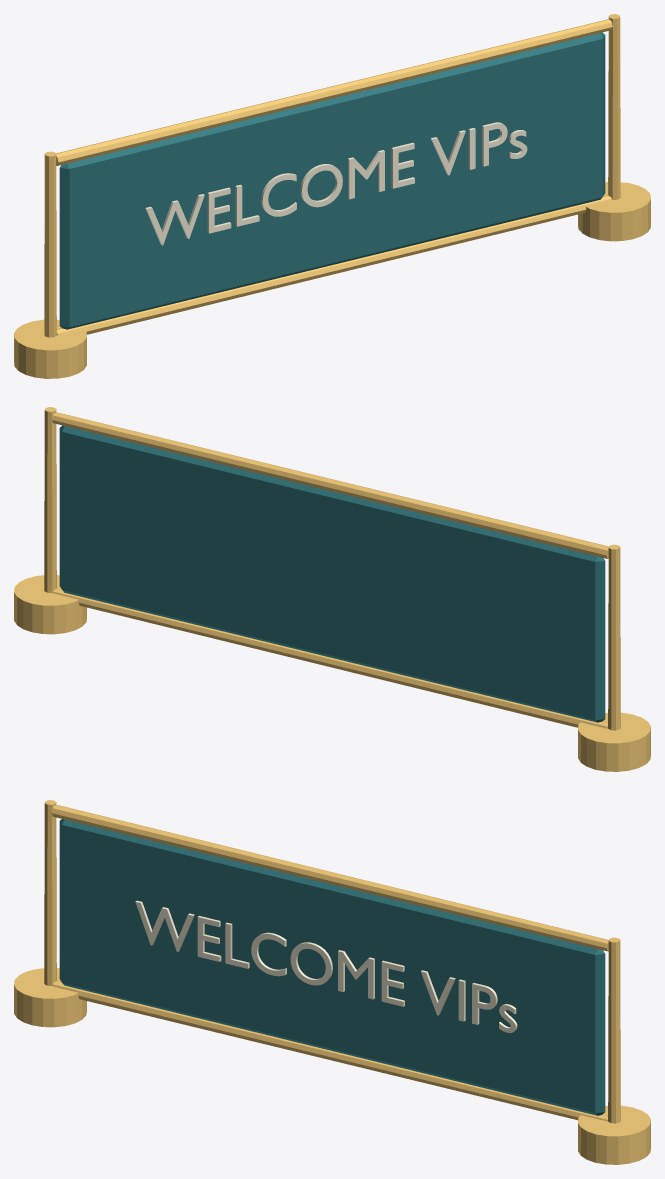
3 views of the same model, one above another, from view 1: azimuth 30°, elevation 25°; view 2: azimuth 150°, elevation 25°; view 3: azimuth 330°, elevation 25° (orthographic).
Visible parts, largest first — view 1: RE-077 Aurora floating VIP welcome banner batched; view 2: RE-077 Aurora floating VIP welcome banner batched; view 3: RE-077 Aurora floating VIP welcome banner batched.
Part boxes in pixels (x1,y1,x2,y2): RE-077 Aurora floating VIP welcome banner batched: (14,14,650,378); RE-077 Aurora floating VIP welcome banner batched: (14,407,650,771); RE-077 Aurora floating VIP welcome banner batched: (14,800,650,1164).
Size of the model in its own units: 2.76 by 0.88 by 0.28.
